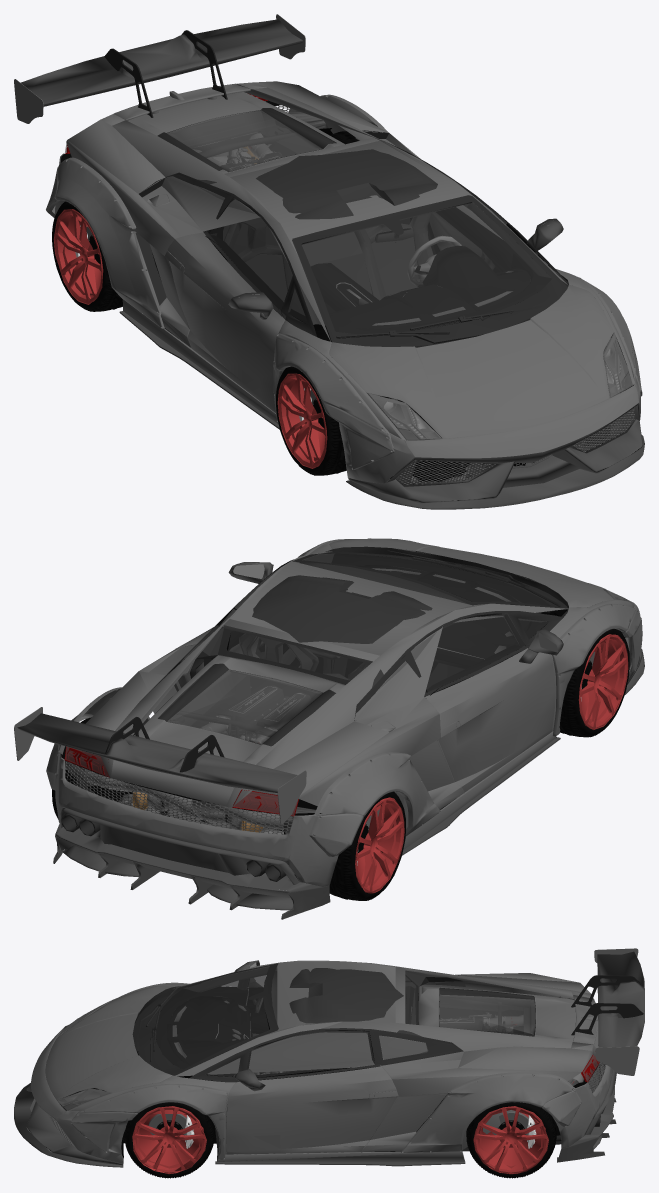
The model's file is gallardo_30.glb.
The picture shows the model from 3 angles, top to bottom: view 1: azimuth 30°, elevation 25°; view 2: azimuth 150°, elevation 25°; view 3: azimuth 270°, elevation 25°; orthographic projection. The views are drawn at different scales.
Visible parts, largest first — view 1: gallardo_hood_b_gallardo_paint_0, gallardo_tankintake_gallardo_turbo_matblack_0, gallardo_comodo_gallardo_cockpit_0, gallardo_backlight_tinted_gallardo_glass_tinted_0, gallardo_wheel_02a_19x11_gallardo_wheel_01a_0; view 2: gallardo_hood_b_gallardo_paint_0, gallardo_tankintake_gallardo_turbo_matblack_0, gallardo_wheel_02a_19x11_gallardo_wheel_01a_0, gallardo_comodo_gallardo_cockpit_0, gallardo_backlight_tinted_gallardo_glass_tinted_0; view 3: gallardo_hood_b_gallardo_paint_0, gallardo_wheel_02a_19x11_gallardo_wheel_01a_0, gallardo_comodo_gallardo_cockpit_0, gallardo_tankintake_gallardo_turbo_matblack_0, gallardo_backlight_tinted_gallardo_glass_tinted_0.
Boxes of the visible parts, x1=… form: gallardo_hood_b_gallardo_paint_0: x1=14, y1=14, x2=642, y2=483; gallardo_tankintake_gallardo_turbo_matblack_0: x1=21, y1=19, x2=644, y2=509; gallardo_comodo_gallardo_cockpit_0: x1=52, y1=100, x2=633, y2=481; gallardo_backlight_tinted_gallardo_glass_tinted_0: x1=65, y1=97, x2=628, y2=440; gallardo_wheel_02a_19x11_gallardo_wheel_01a_0: x1=53, y1=81, x2=567, y2=468; gallardo_hood_b_gallardo_paint_0: x1=14, y1=538, x2=642, y2=886; gallardo_tankintake_gallardo_turbo_matblack_0: x1=17, y1=562, x2=644, y2=919; gallardo_wheel_02a_19x11_gallardo_wheel_01a_0: x1=85, y1=551, x2=628, y2=893; gallardo_comodo_gallardo_cockpit_0: x1=52, y1=546, x2=629, y2=900; gallardo_backlight_tinted_gallardo_glass_tinted_0: x1=65, y1=538, x2=628, y2=815; gallardo_hood_b_gallardo_paint_0: x1=30, y1=948, x2=639, y2=1163; gallardo_wheel_02a_19x11_gallardo_wheel_01a_0: x1=132, y1=960, x2=598, y2=1174; gallardo_comodo_gallardo_cockpit_0: x1=60, y1=963, x2=598, y2=1178; gallardo_tankintake_gallardo_turbo_matblack_0: x1=14, y1=951, x2=644, y2=1167; gallardo_backlight_tinted_gallardo_glass_tinted_0: x1=57, y1=966, x2=599, y2=1106.
Size of the model in its own units: 2.18 by 1.12 by 4.71.
Materials: 4 (4 with a texture image).
